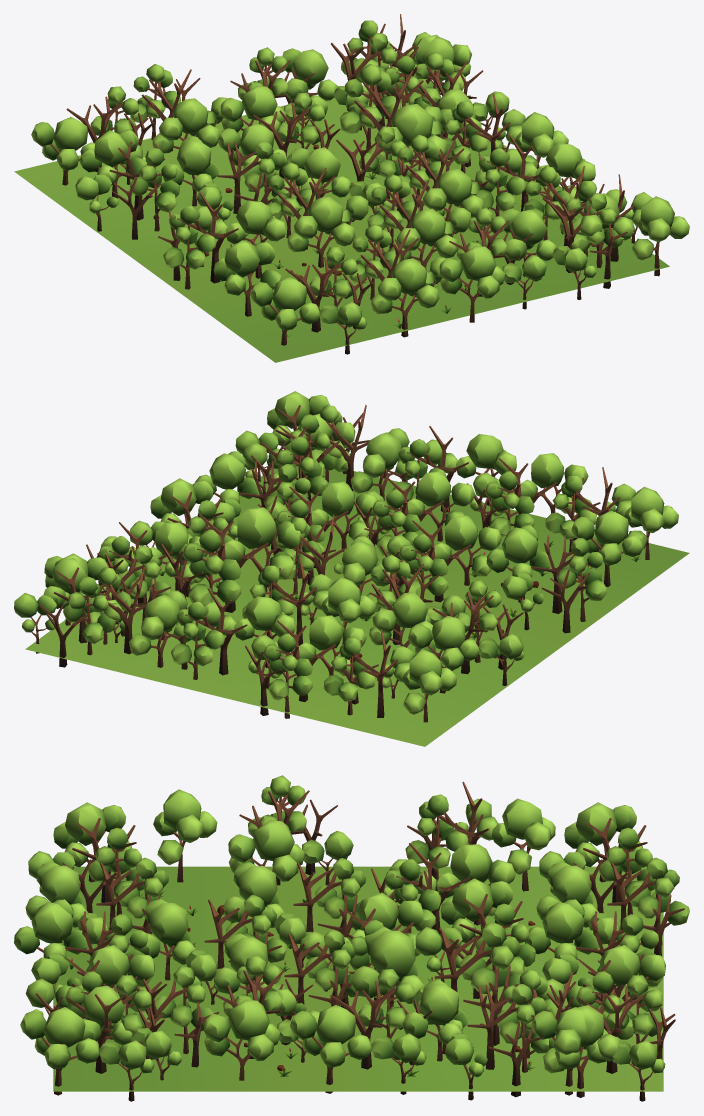
Rendered from foret.glb.
3 views of the same model, one above another, from view 1: azimuth 30°, elevation 25°; view 2: azimuth 150°, elevation 25°; view 3: azimuth 270°, elevation 25° (orthographic). The views are drawn at different scales.
Visible parts, largest first — view 1: Object_2, Object_3, Object_4; view 2: Object_2, Object_3, Object_4; view 3: Object_2, Object_3, Object_4.
Boxes of the visible parts, <box> form: Object_2: <box>31,20,689,345</box>; Object_3: <box>14,32,669,362</box>; Object_4: <box>66,14,634,336</box>; Object_2: <box>43,391,678,722</box>; Object_3: <box>14,439,689,746</box>; Object_4: <box>39,405,640,717</box>; Object_2: <box>14,775,689,1101</box>; Object_3: <box>28,794,665,1101</box>; Object_4: <box>36,799,684,1097</box>.
Size of the model in its own units: 137 by 30.28 by 159.
Materials: 1 (1 with a texture image).
